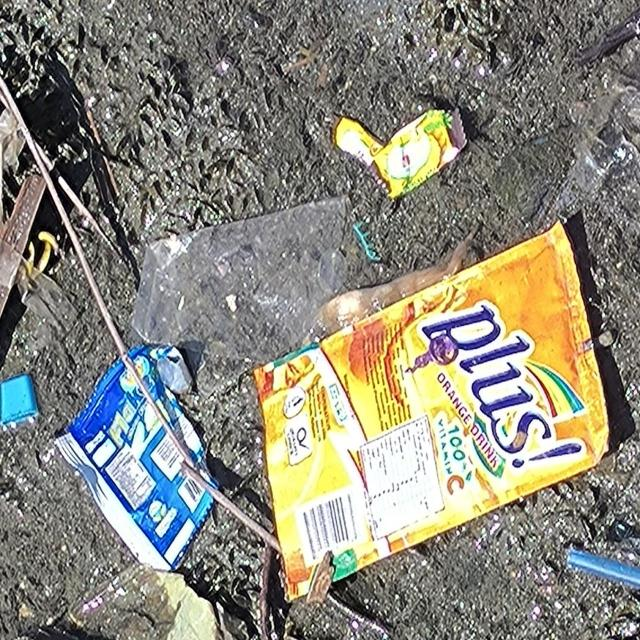plastic_waste: (255, 222, 611, 603), (54, 343, 221, 578), (333, 109, 469, 199)
